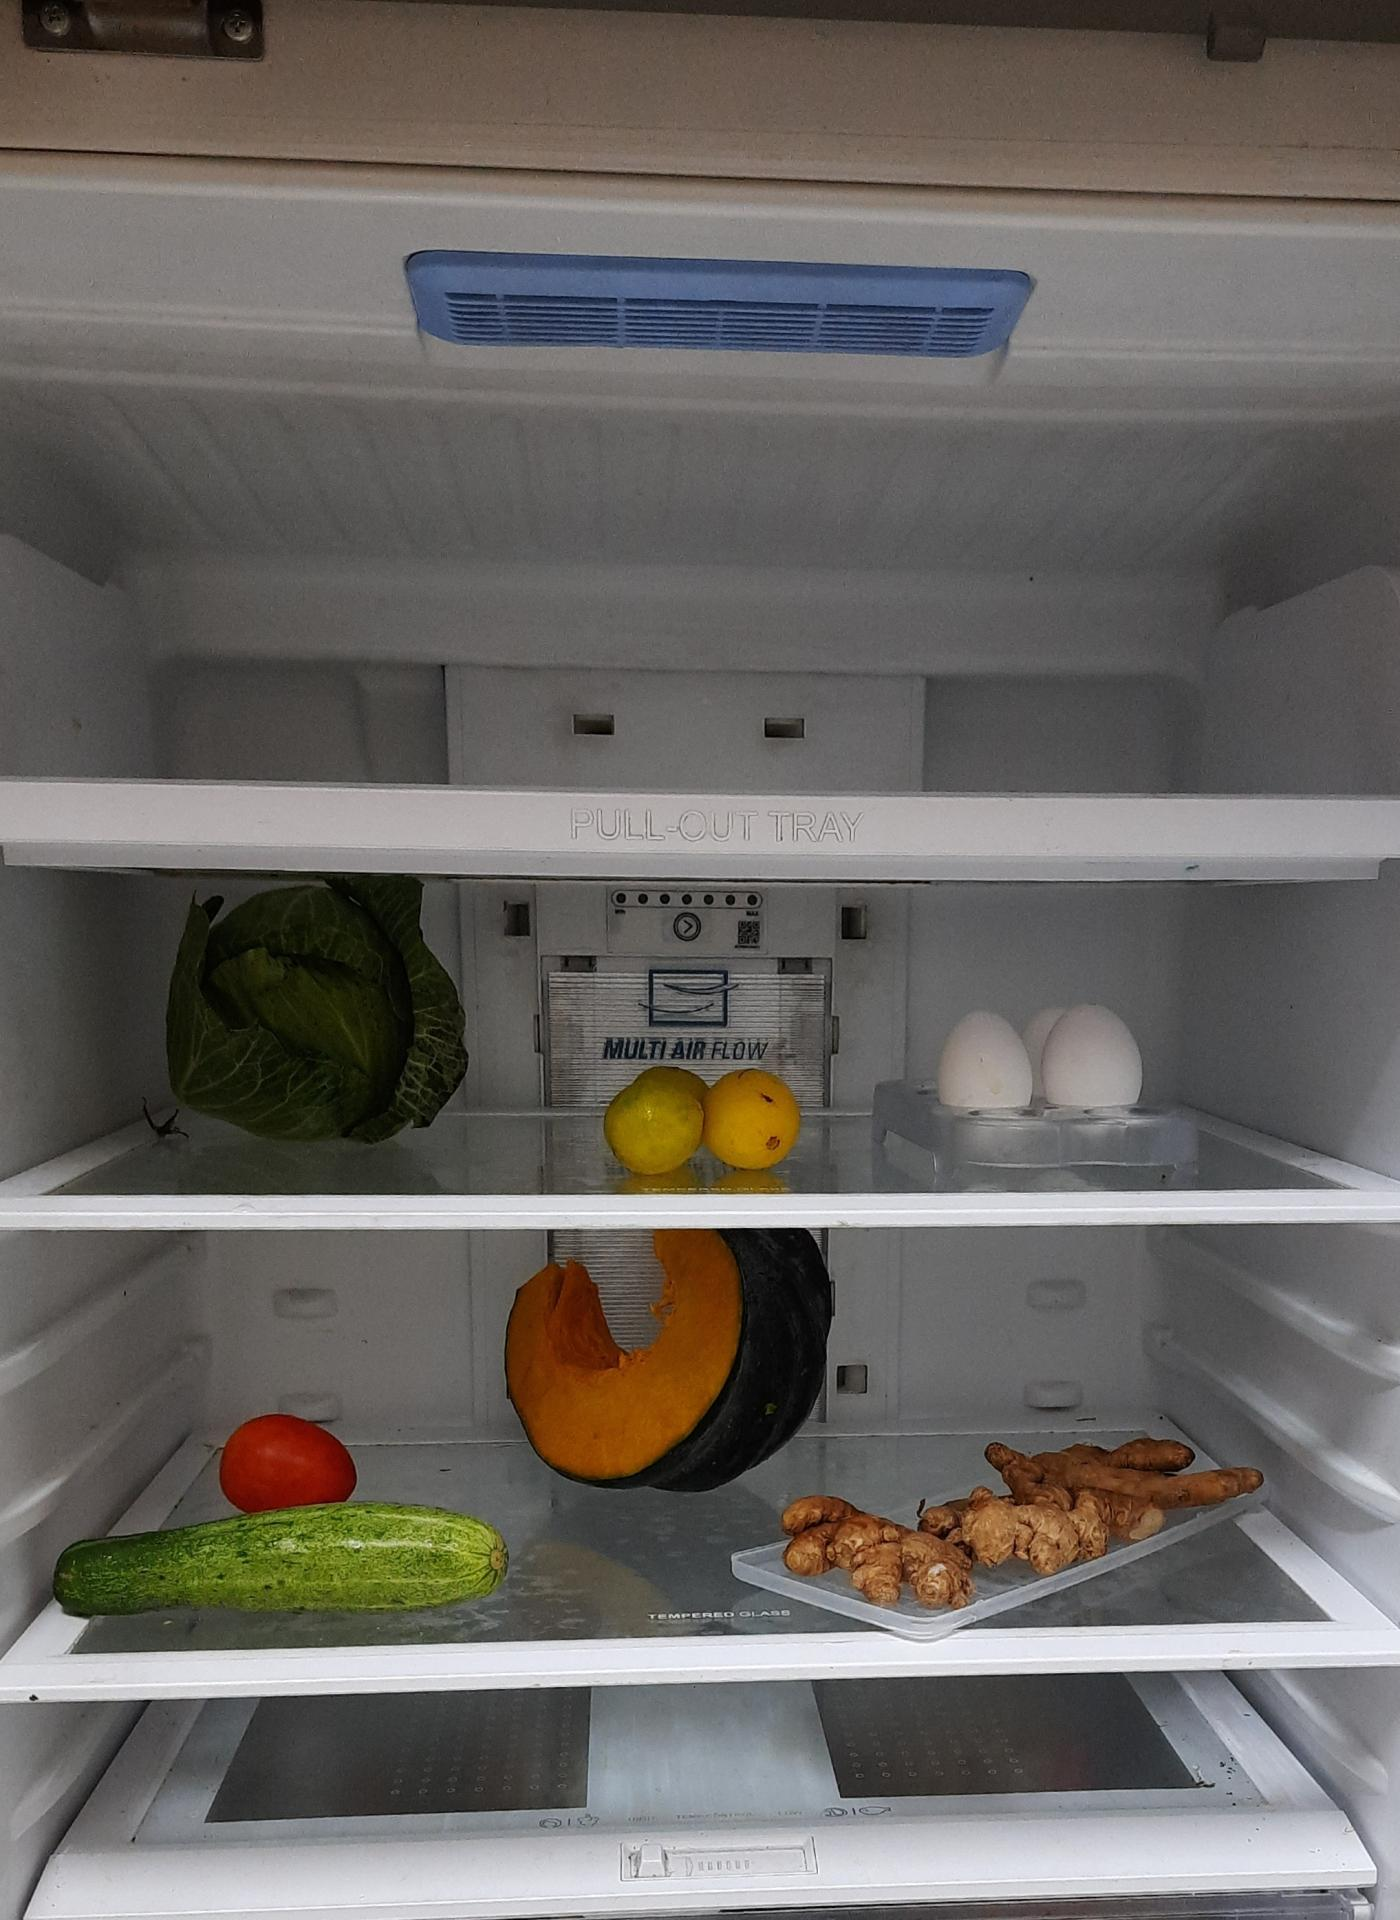cabbage: (167, 871, 468, 1136)
egg: (936, 1003, 1144, 1124)
ginger: (781, 1436, 1252, 1617)
lemon: (610, 1060, 810, 1169)
pumpkin: (502, 1231, 835, 1491)
tomato: (221, 1413, 361, 1512)
